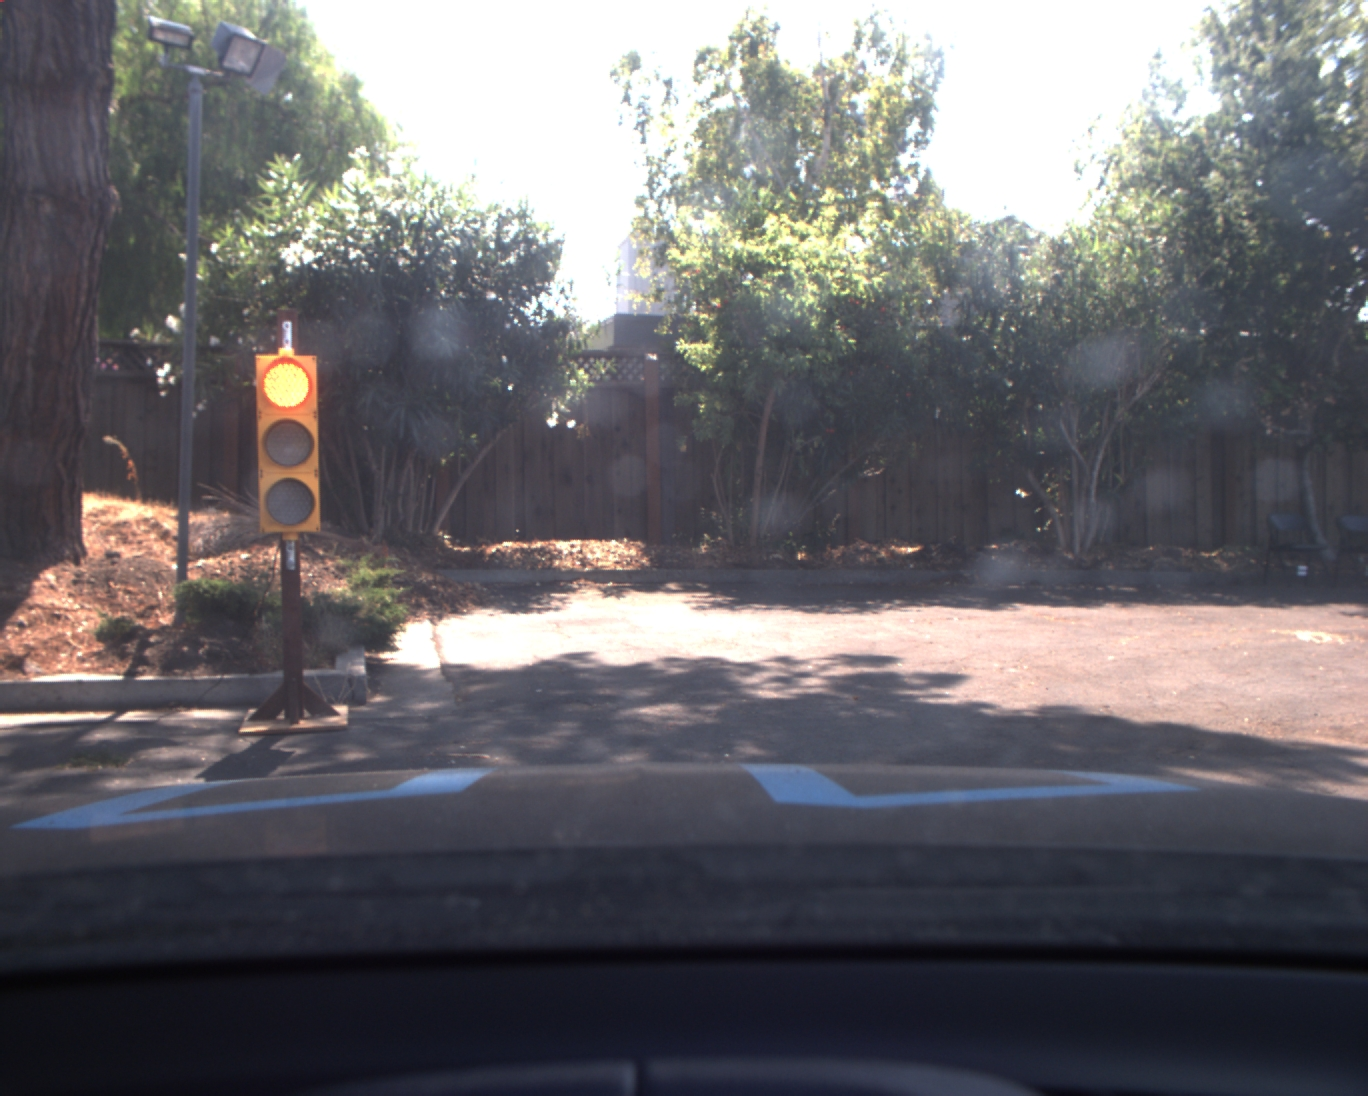red: (252, 355, 328, 538)
